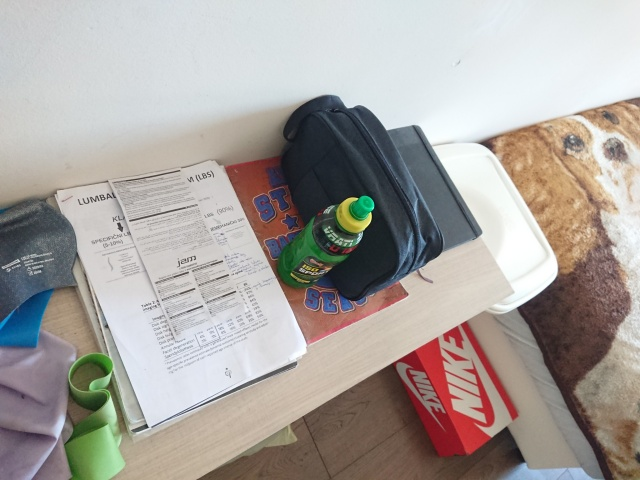Vindi Iso Sport Lemon-Grapefruit 500mL: (274, 193, 377, 292)
